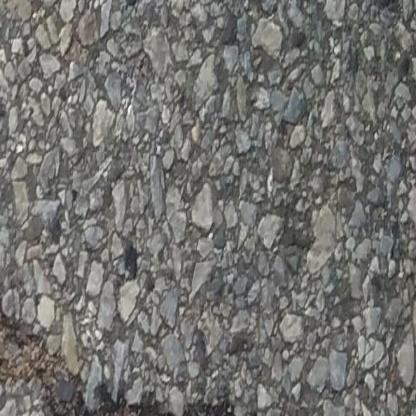Cracks: (0, 295, 262, 416)
